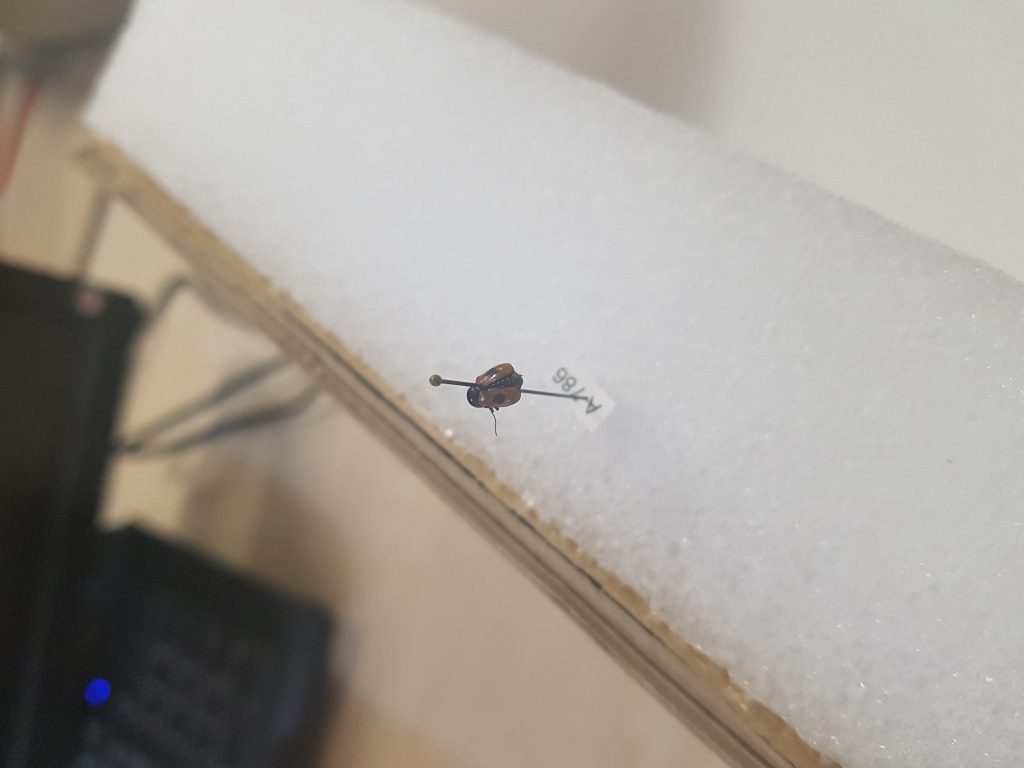Cryptocephalus_bipunctatus: (462, 359, 529, 435)
